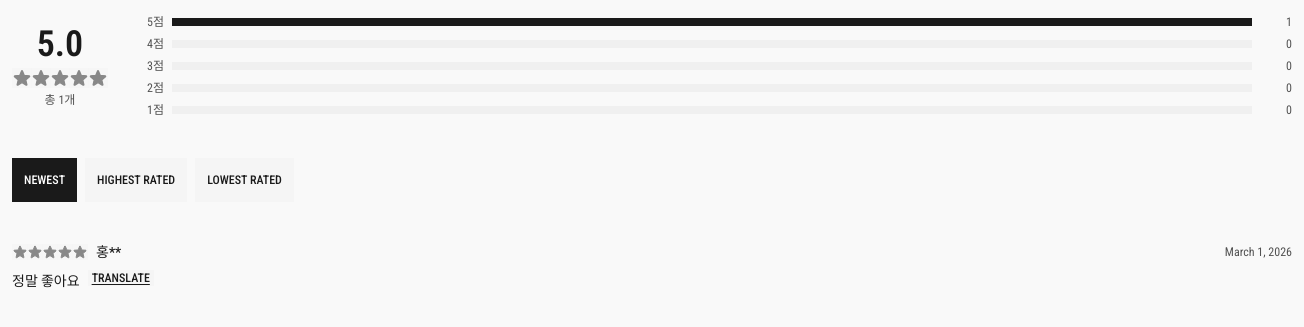
Scenario: ReviewList › translates Korean review content inline on English storefront
Check: the text "정말 좋아요" is shown, box [12,270,80,293]
Click the button "Translate" at coordinates (121, 278), box [88,270,154,286]
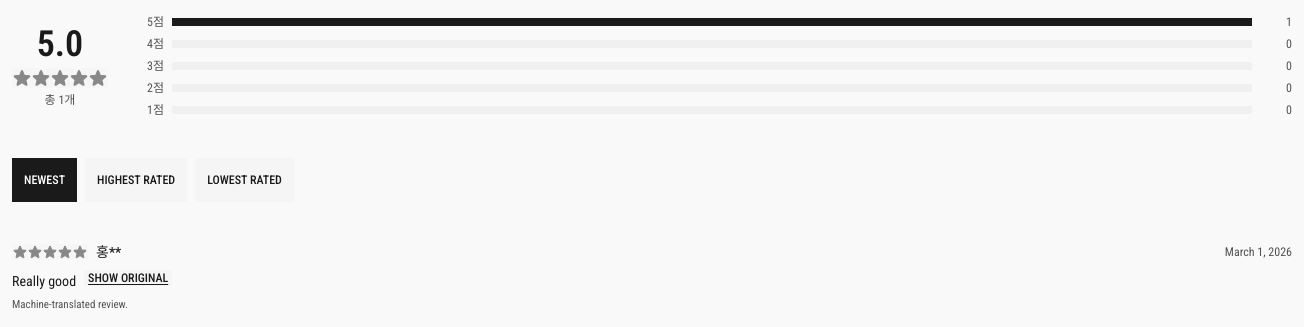
Check: the text "Really good" is shown, box [12,270,76,293]
Check: the text "Machine-translated review." is shown, box [12,298,128,311]
